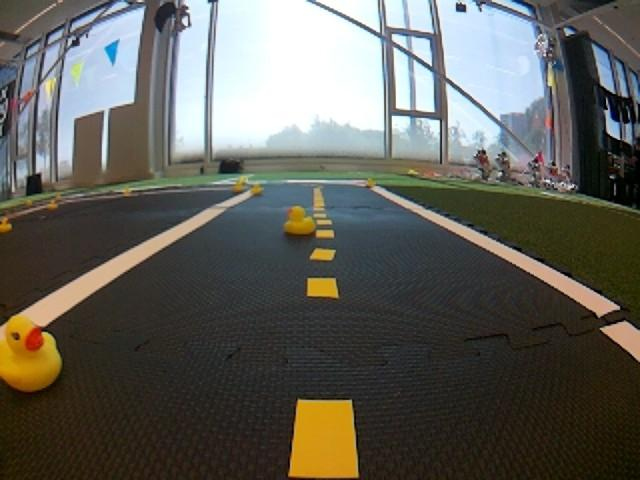Duckies: (0, 312, 63, 393), (284, 207, 314, 236), (0, 217, 12, 233), (250, 183, 264, 193), (232, 182, 245, 191), (48, 199, 58, 210), (366, 178, 375, 186), (239, 176, 248, 183), (123, 186, 131, 193), (24, 199, 33, 205), (55, 194, 62, 200)
